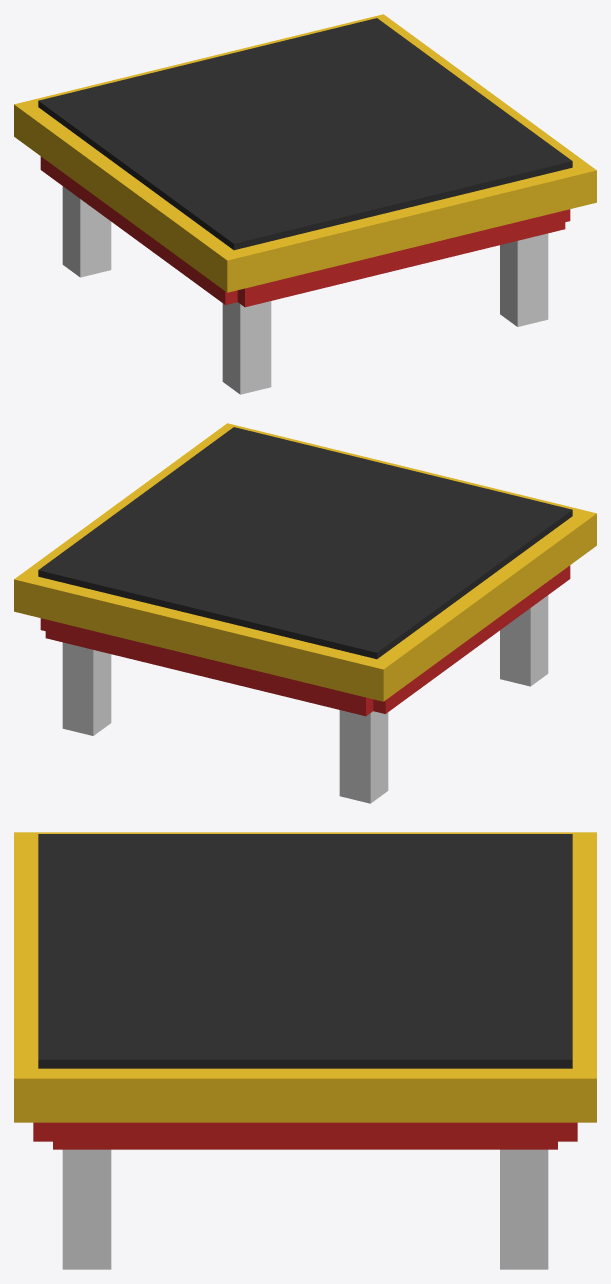
File: dog_pause_table.obj
3 renders of one model, top to bottom at view 1: azimuth 30°, elevation 25°; view 2: azimuth 150°, elevation 25°; view 3: azimuth 270°, elevation 25°, orthographic. The views are drawn at different scales.
Visible parts, largest first — view 1: grip_top, table_top, apron_back, leg_-0.45_0.45, leg_0.45_0.45, leg_-0.45_-0.45, apron_left; view 2: grip_top, table_top, apron_front, leg_-0.45_-0.45, leg_0.45_-0.45, leg_-0.45_0.45, apron_left; view 3: grip_top, table_top, apron_right, leg_0.45_0.45, leg_0.45_-0.45.
Part boxes in pixels (left/top/right/bottom): grip_top: left=38, top=18, right=572, bottom=250; table_top: left=14, top=14, right=596, bottom=292; apron_back: left=237, top=210, right=565, bottom=307; leg_-0.45_0.45: left=222, top=301, right=271, bottom=394; leg_0.45_0.45: left=500, top=233, right=548, bottom=326; leg_-0.45_-0.45: left=62, top=186, right=111, bottom=277; apron_left: left=40, top=156, right=237, bottom=304; grip_top: left=38, top=427, right=572, bottom=659; table_top: left=14, top=423, right=596, bottom=701; apron_front: left=45, top=619, right=373, bottom=716; leg_-0.45_-0.45: left=339, top=710, right=388, bottom=803; leg_0.45_-0.45: left=62, top=642, right=111, bottom=735; leg_-0.45_0.45: left=500, top=595, right=548, bottom=686; apron_left: left=373, top=565, right=570, bottom=713; grip_top: left=38, top=834, right=572, bottom=1068; table_top: left=14, top=832, right=596, bottom=1122; apron_right: left=53, top=1122, right=557, bottom=1149; leg_0.45_0.45: left=62, top=1149, right=111, bottom=1269; leg_0.45_-0.45: left=500, top=1149, right=548, bottom=1269.
Bounding box in the file's own units: 1.2 × 0.5 × 1.2.
